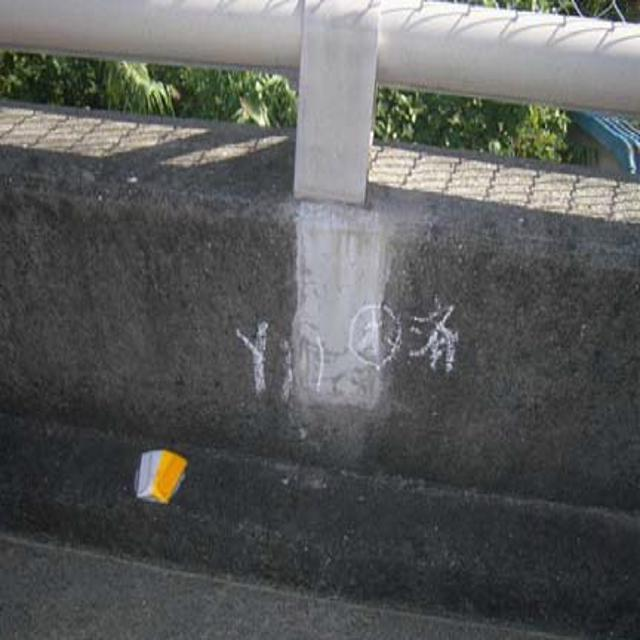freelime: (284, 164, 400, 424)
